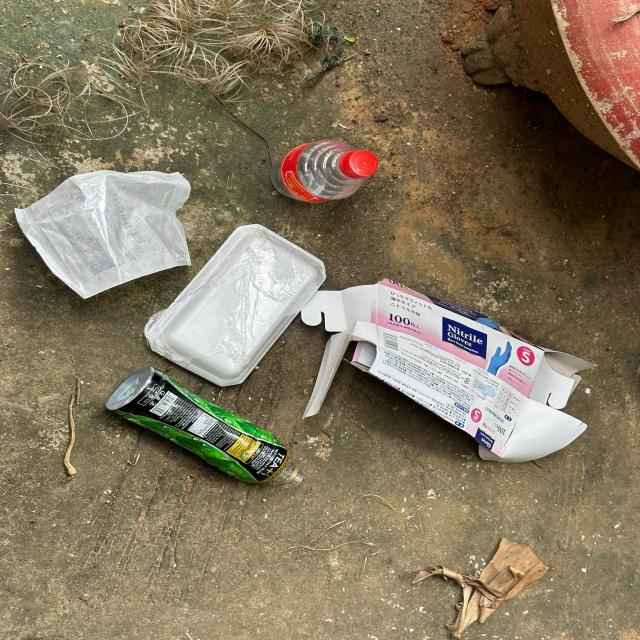bottle: (106, 366, 304, 488), (271, 140, 378, 202)
cardboard box: (301, 278, 598, 463)
foam box: (144, 223, 328, 387)
packet: (14, 170, 192, 299)
